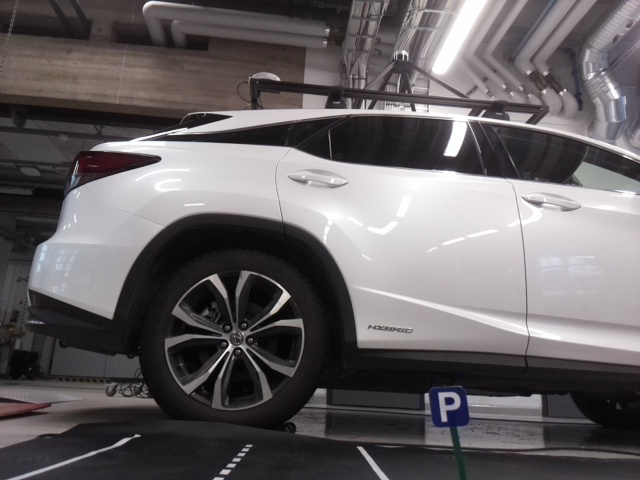Parking: (428, 388, 468, 427)
